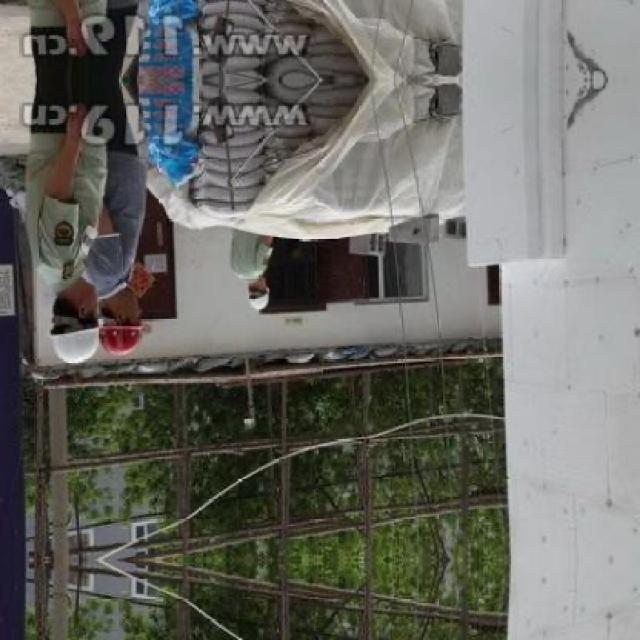con casco: (14, 300, 157, 386), (247, 278, 324, 332)
